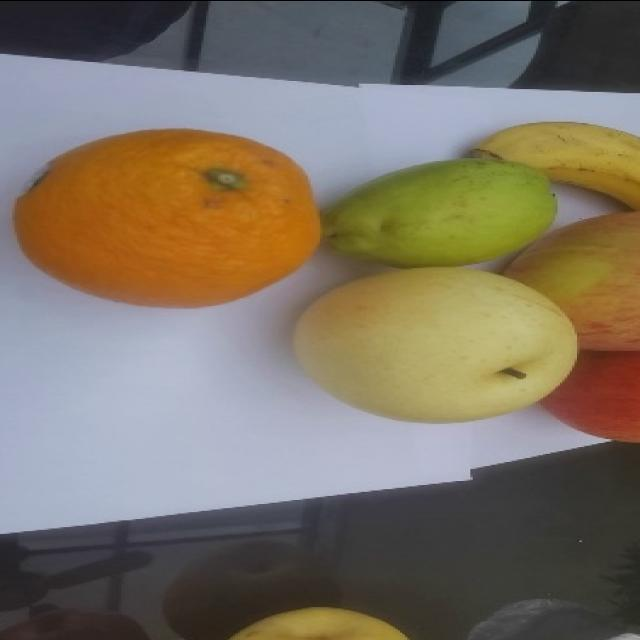Apple: (501, 209, 639, 352), (537, 350, 639, 444)
Banana: (466, 120, 639, 211)
Orange: (13, 127, 322, 308)
